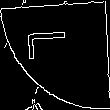L_E: (30, 38, 80, 72)
